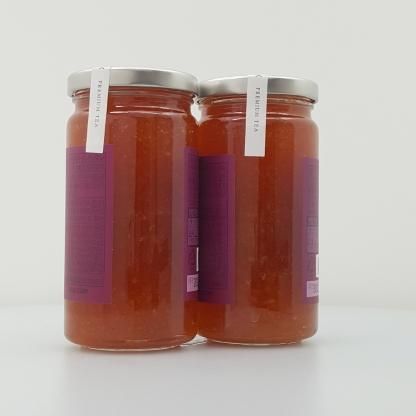---------------400G: (63, 66, 200, 352), (187, 74, 320, 345)
